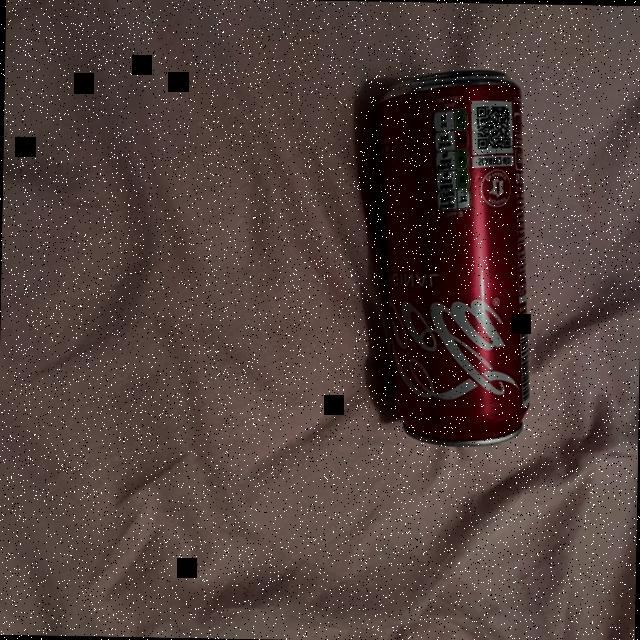can: (368, 65, 534, 452)
